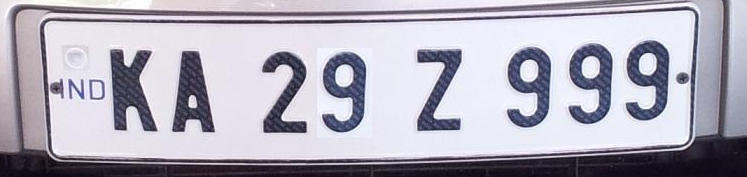2: (259, 50, 311, 134)
9: (566, 40, 614, 128), (504, 45, 554, 128), (623, 39, 671, 125), (319, 51, 369, 133)
A: (170, 49, 220, 135)
K: (104, 47, 161, 133)
Z: (415, 46, 467, 132)
